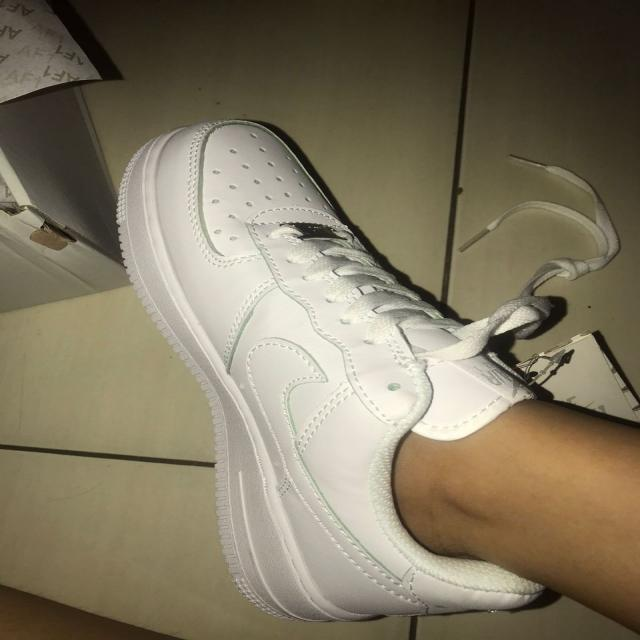nike fake air force: (110, 112, 634, 626)
